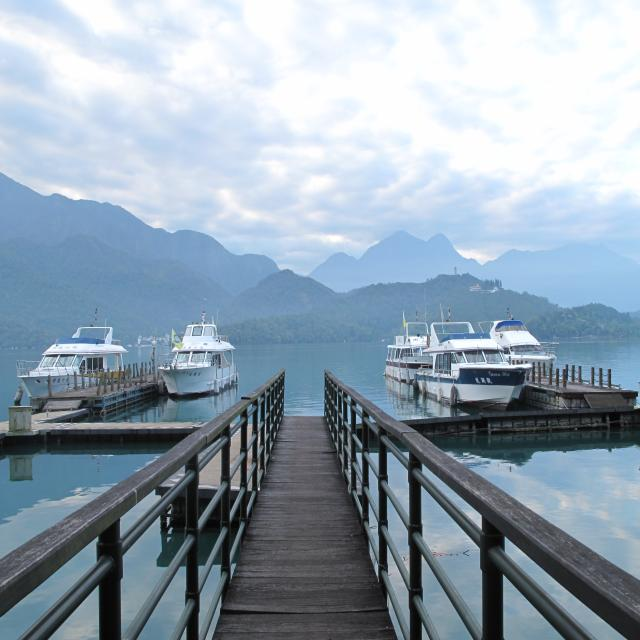houseboat: (15, 303, 141, 400), (133, 310, 234, 413)
